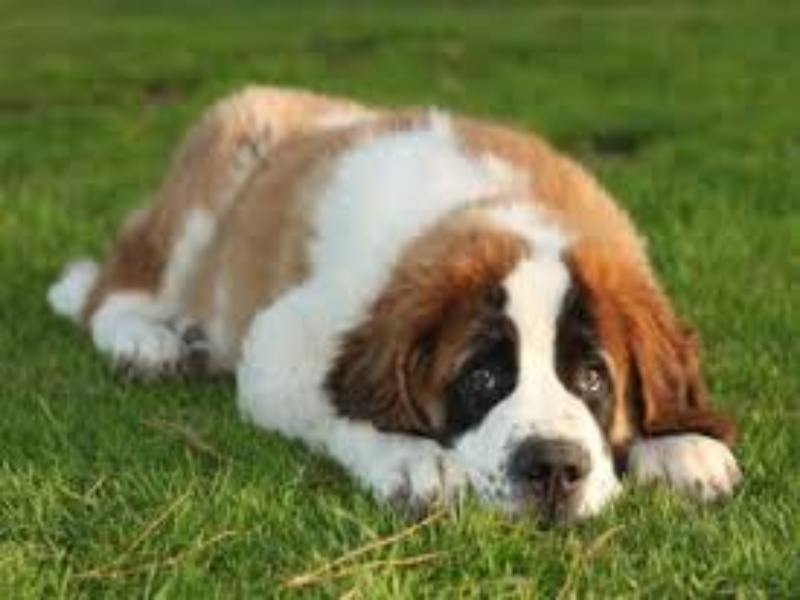dog: (41, 77, 743, 530)
